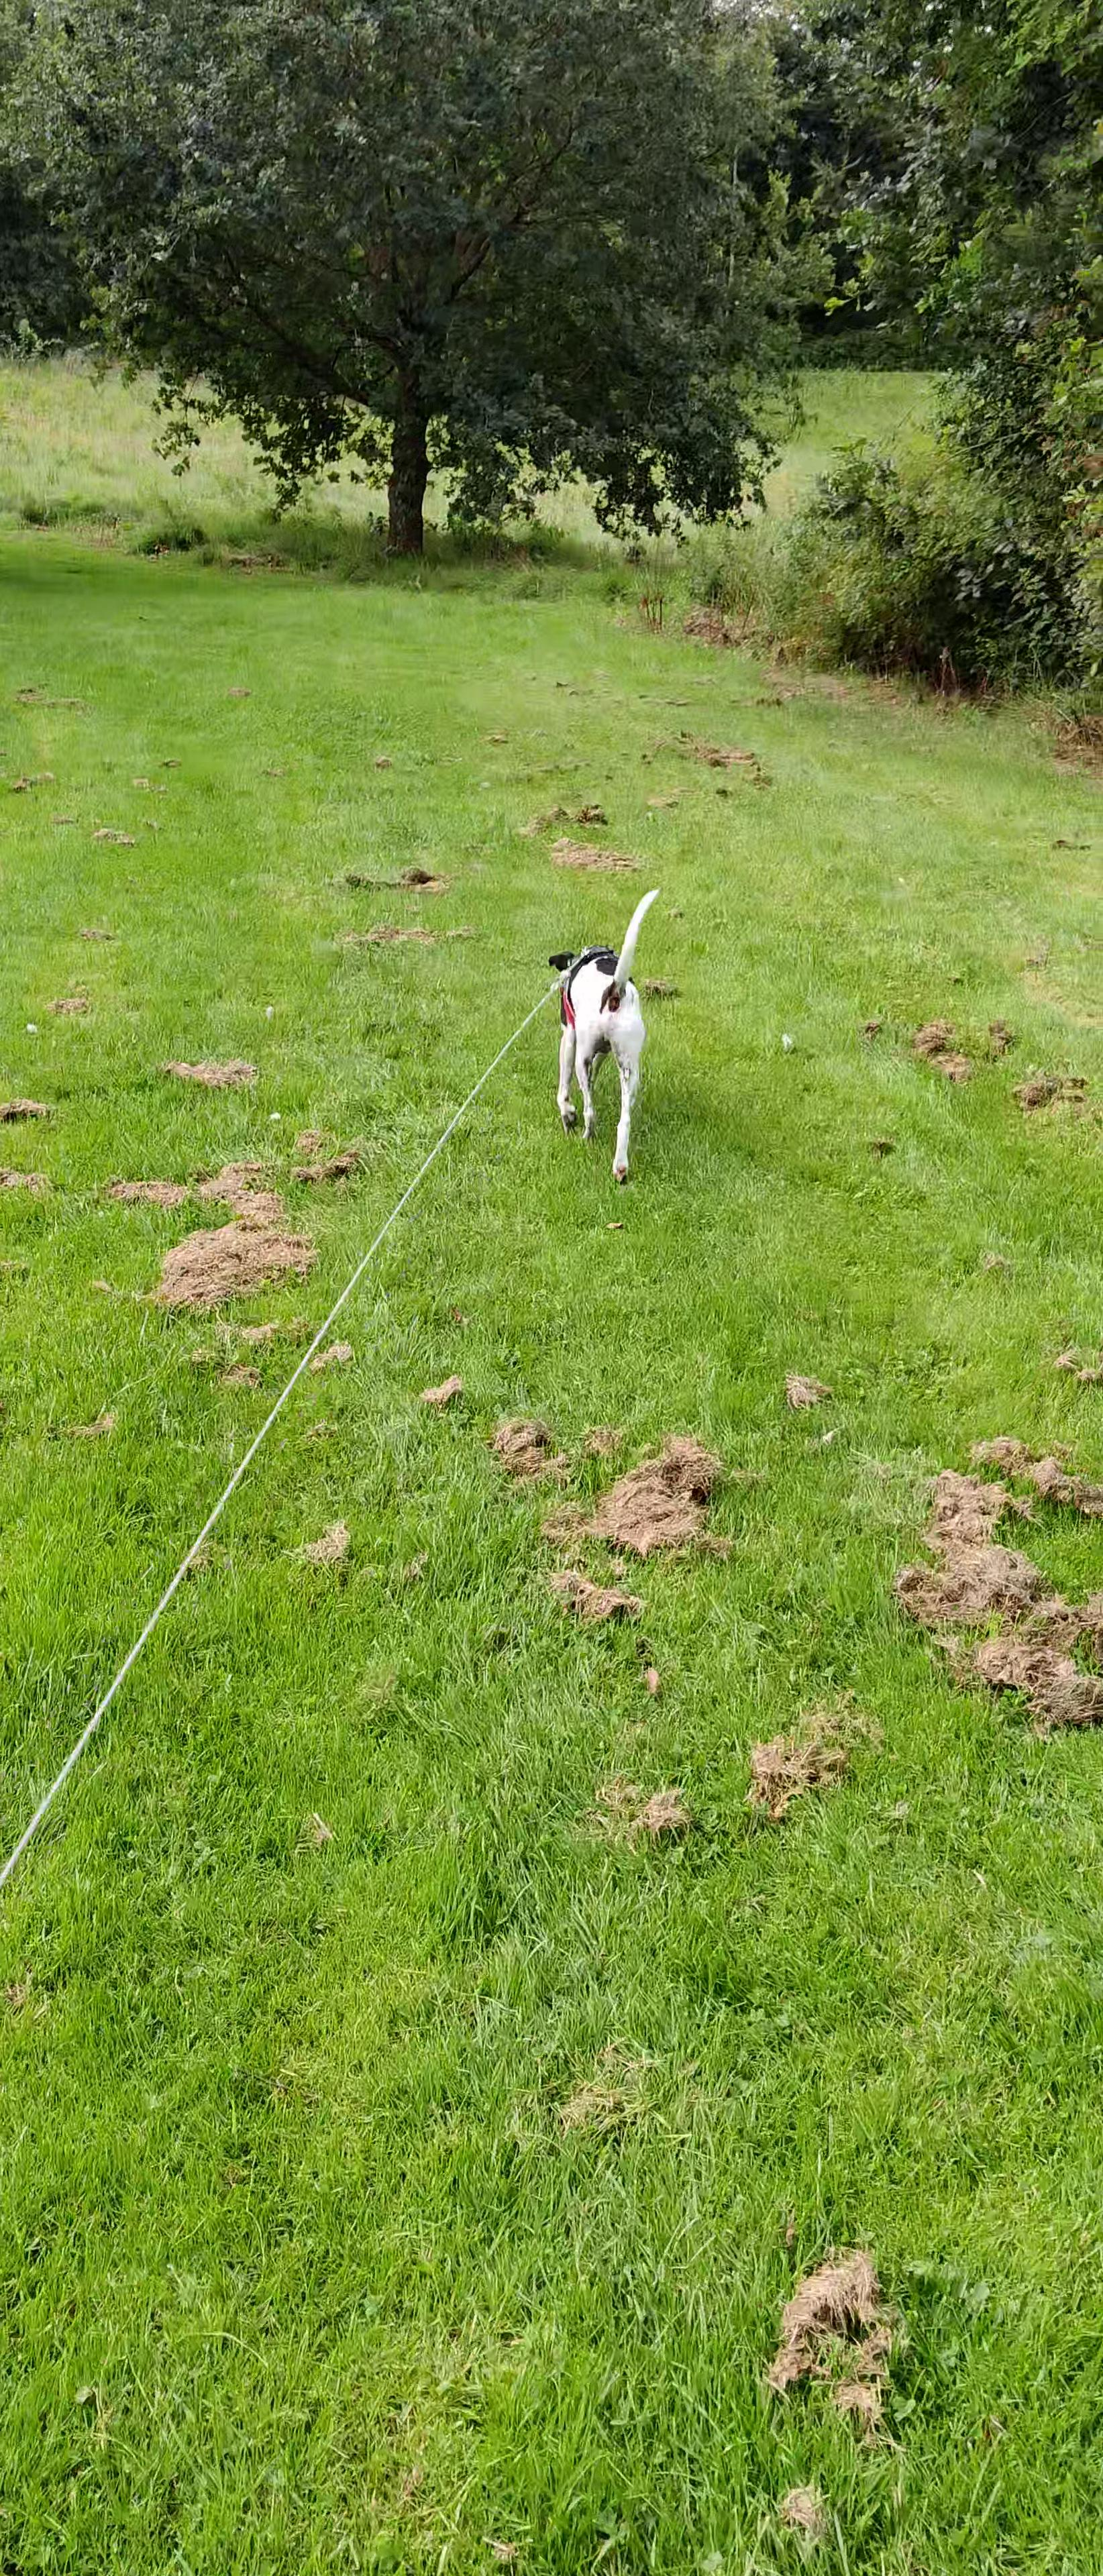Dog: (536, 866, 671, 1201)
